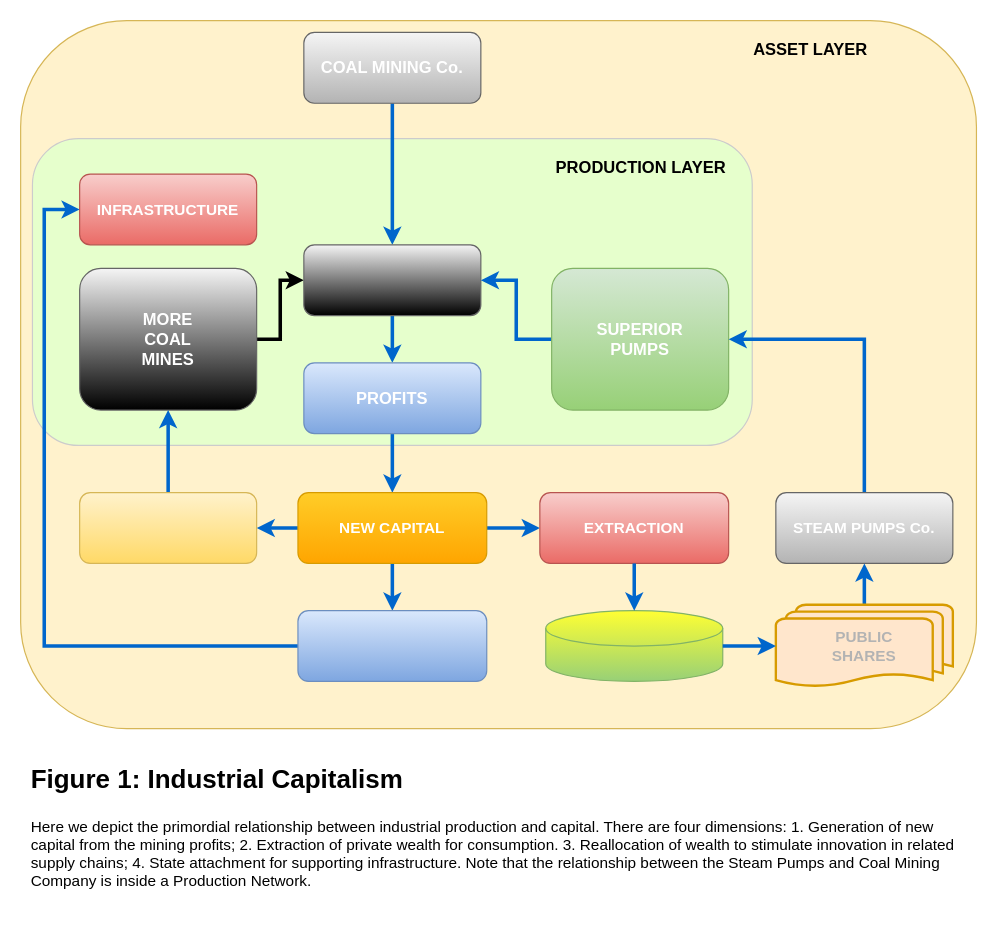
Some shapes in this 997 by 930 pixel diagram are drawn without their labels. Each missing label, with the box of its shape:
COAL MINES: (303, 244, 481, 316)
Private Wealth: (545, 609, 723, 681)
RETENTION: (78, 491, 257, 563)
TAX: (297, 609, 487, 681)
